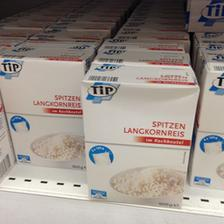Reis: (78, 63, 198, 208), (0, 44, 92, 167)
